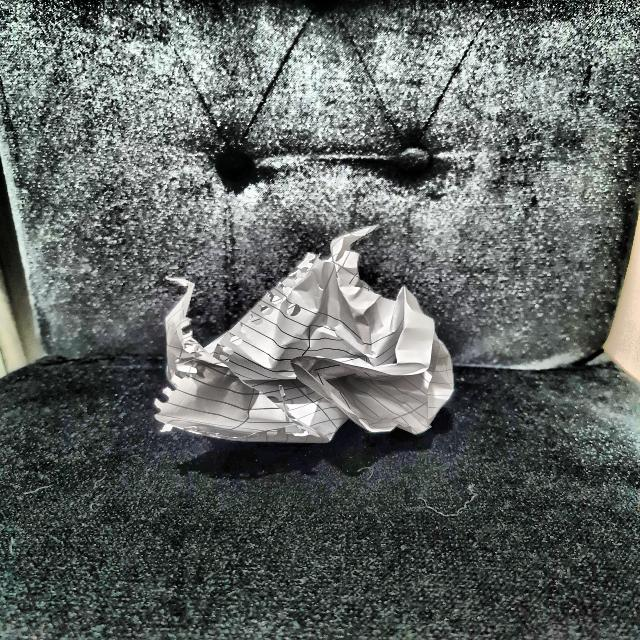Paper: (151, 227, 464, 456)
